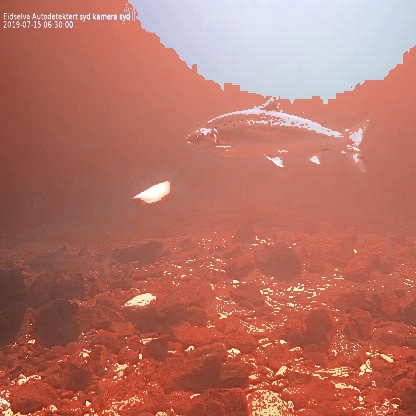salmon: (182, 96, 374, 179), (24, 241, 112, 281)
